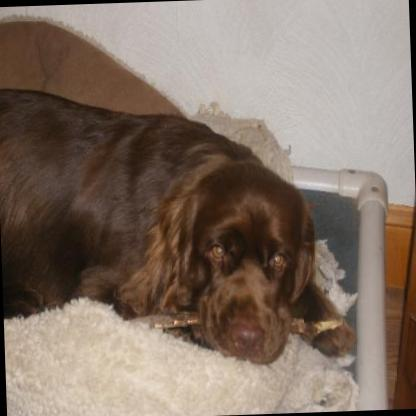Sussex_spaniel: (0, 71, 356, 372)
